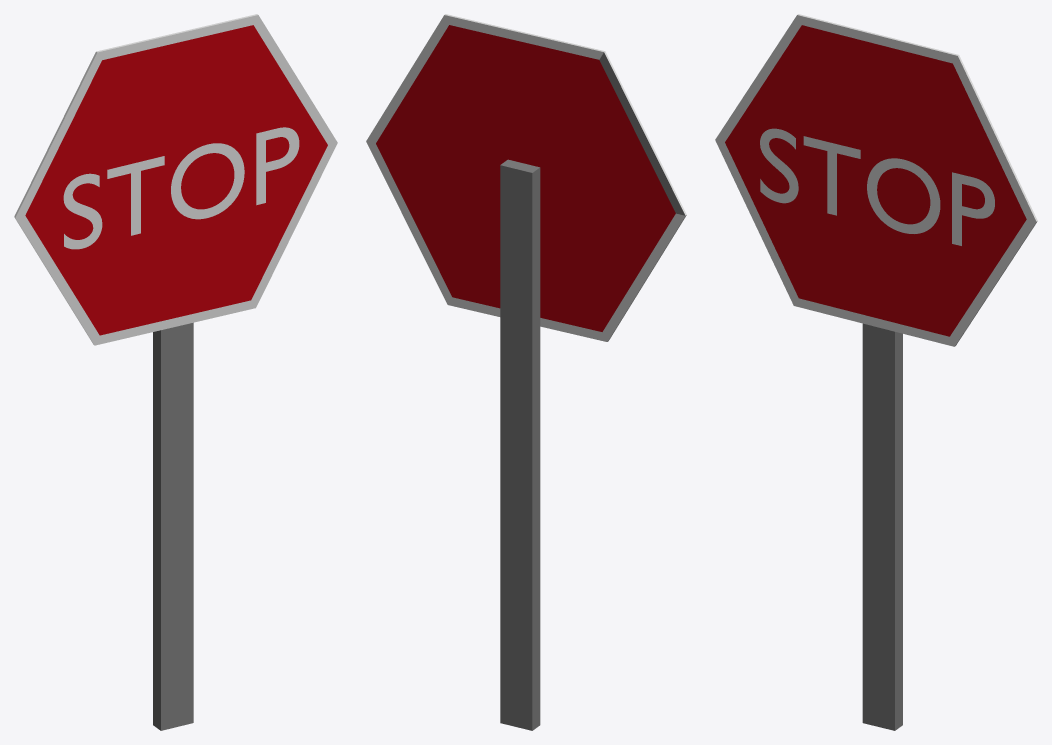
File: StopSign.fbx
The picture shows the model from 3 angles, left to right: view 1: azimuth 30°, elevation 25°; view 2: azimuth 150°, elevation 25°; view 3: azimuth 330°, elevation 25°; orthographic projection.
Visible parts, largest first — view 1: StopSign; view 2: StopSign; view 3: StopSign.
Part boxes in pixels (x1,y1,x2,y2): StopSign: (14, 14, 337, 730); StopSign: (366, 14, 686, 730); StopSign: (715, 14, 1037, 730).
Size of the model in its own units: 121 by 249 by 6.95.
